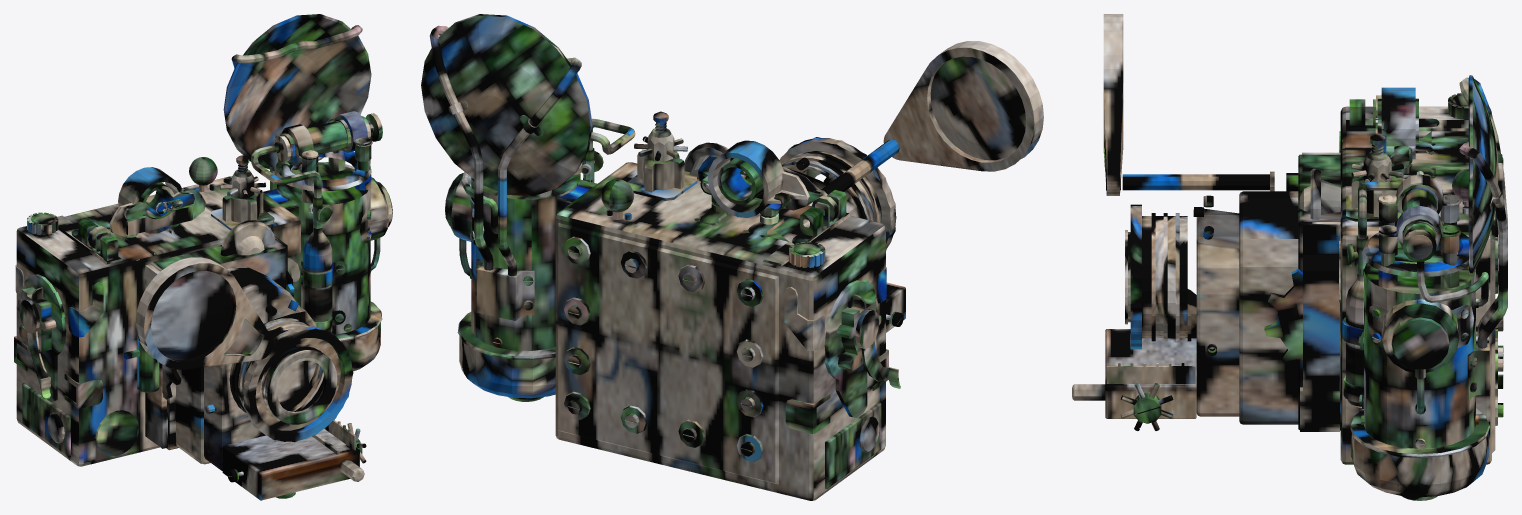
The picture shows the model from 3 angles, left to right: view 1: azimuth 30°, elevation 25°; view 2: azimuth 150°, elevation 25°; view 3: azimuth 270°, elevation 25°; orthographic projection. The views are drawn at different scales.
Bounding box in the file's own units: 1 × 0.8713 × 0.8327.
Materials: 1 (1 with a texture image).
